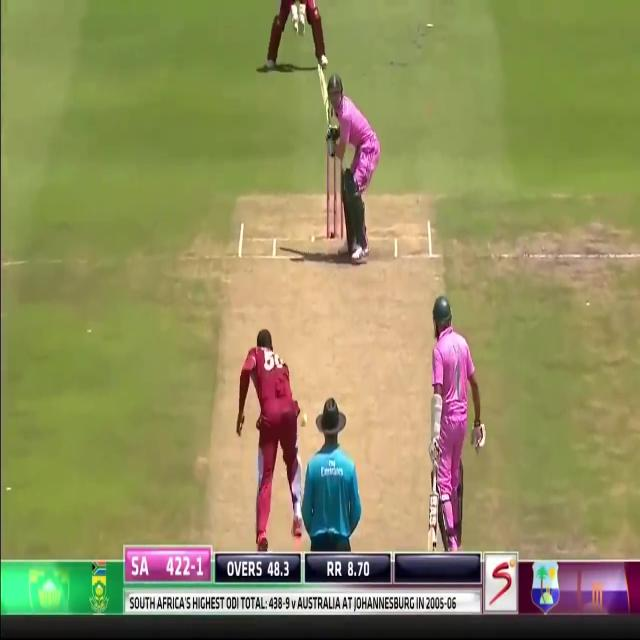Ball: (429, 297, 484, 551), (325, 74, 380, 264)
Fielder: (236, 328, 303, 552), (266, 0, 311, 76)
Umpire: (300, 396, 361, 553)
